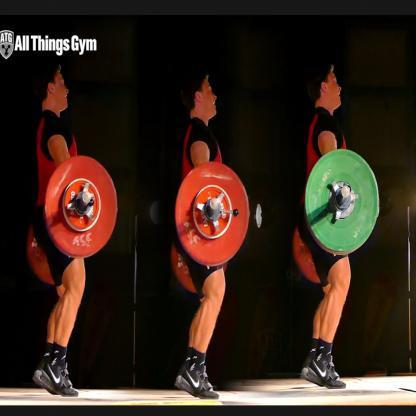barbell: (24, 152, 118, 283), (292, 149, 380, 283), (169, 161, 252, 292)
